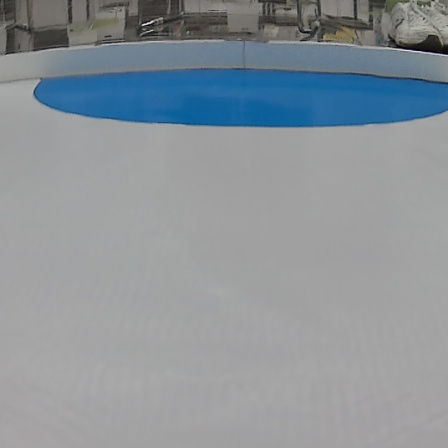blue_base: (32, 66, 448, 129)
